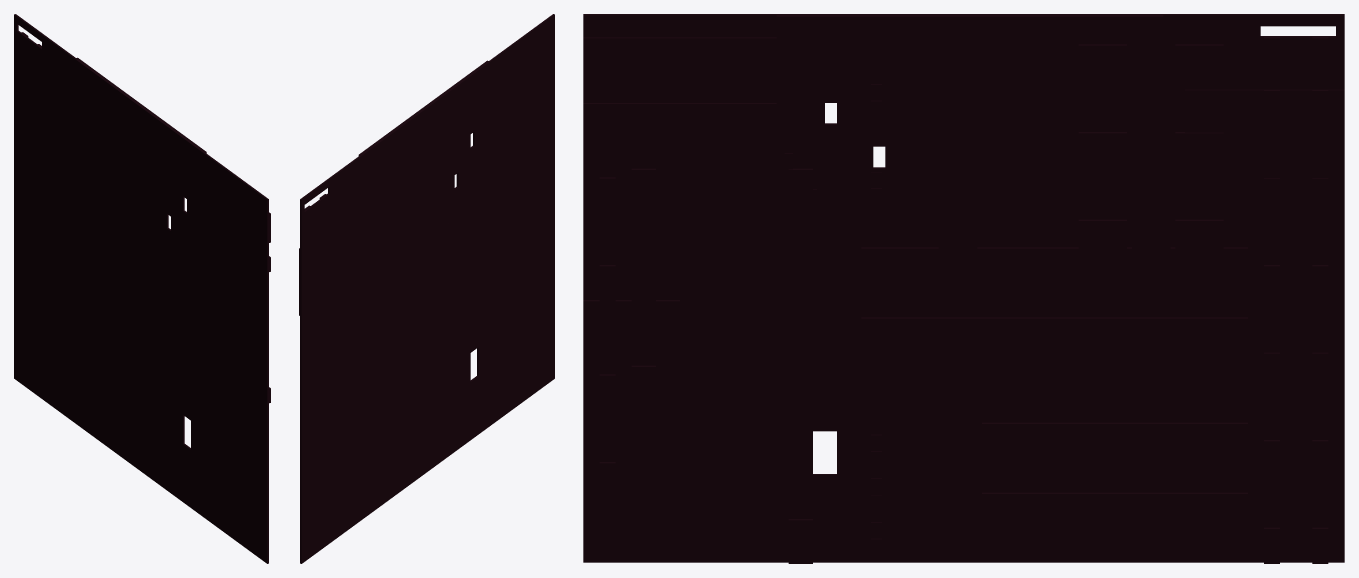
The model's file is BigPanel_02.fbx.
The picture shows the model from 3 angles, left to right: view 1: azimuth 30°, elevation 25°; view 2: azimuth 150°, elevation 25°; view 3: azimuth 270°, elevation 25°; orthographic projection. The views are drawn at different scales.
Visible parts, largest first — view 1: Big Panel 02; view 2: Big Panel 02; view 3: Big Panel 02.
Boxes of the visible parts, <box> form: Big Panel 02: <box>14,14,270,563</box>; Big Panel 02: <box>299,14,554,563</box>; Big Panel 02: <box>583,14,1344,563</box>.
Bounding box in the file's own units: 50 × 5000 × 6300.
